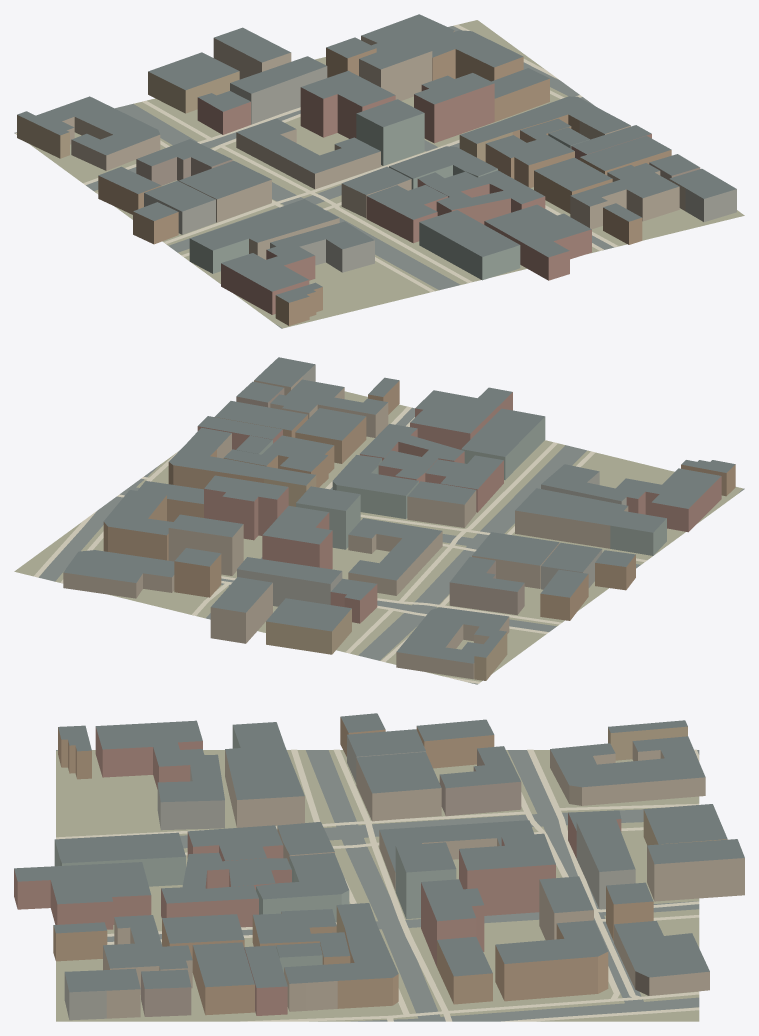
The model's file is sector-0_-5.glb.
3 renders of one model, top to bottom at view 1: azimuth 30°, elevation 25°; view 2: azimuth 150°, elevation 25°; view 3: azimuth 270°, elevation 25°, orthographic. The views are drawn at different scales.
Parts seen in each view (by area): view 1: 0:-5-roof, 0:-5-facade, 0:-5-ground, 0:-5-road, 0:-5-paving; view 2: 0:-5-roof, 0:-5-facade, 0:-5-ground, 0:-5-road, 0:-5-paving; view 3: 0:-5-roof, 0:-5-facade, 0:-5-ground, 0:-5-road, 0:-5-paving.
Part boxes in pixels (box(x1,y1,x2,y2)): 0:-5-roof: box(17, 14, 736, 302); 0:-5-facade: box(17, 30, 736, 325); 0:-5-ground: box(29, 20, 744, 328); 0:-5-road: box(14, 26, 614, 328); 0:-5-paving: box(15, 24, 618, 292); 0:-5-roof: box(63, 357, 735, 663); 0:-5-facade: box(63, 364, 735, 680); 0:-5-ground: box(14, 391, 743, 683); 0:-5-road: box(39, 407, 744, 684); 0:-5-paving: box(34, 406, 646, 683); 0:-5-roof: box(14, 713, 744, 992); 0:-5-facade: box(14, 717, 744, 1020); 0:-5-ground: box(56, 750, 699, 1021); 0:-5-road: box(56, 750, 699, 1021); 0:-5-paving: box(56, 749, 699, 1021).
Size of the model in its own units: 206 by 16 by 227.
